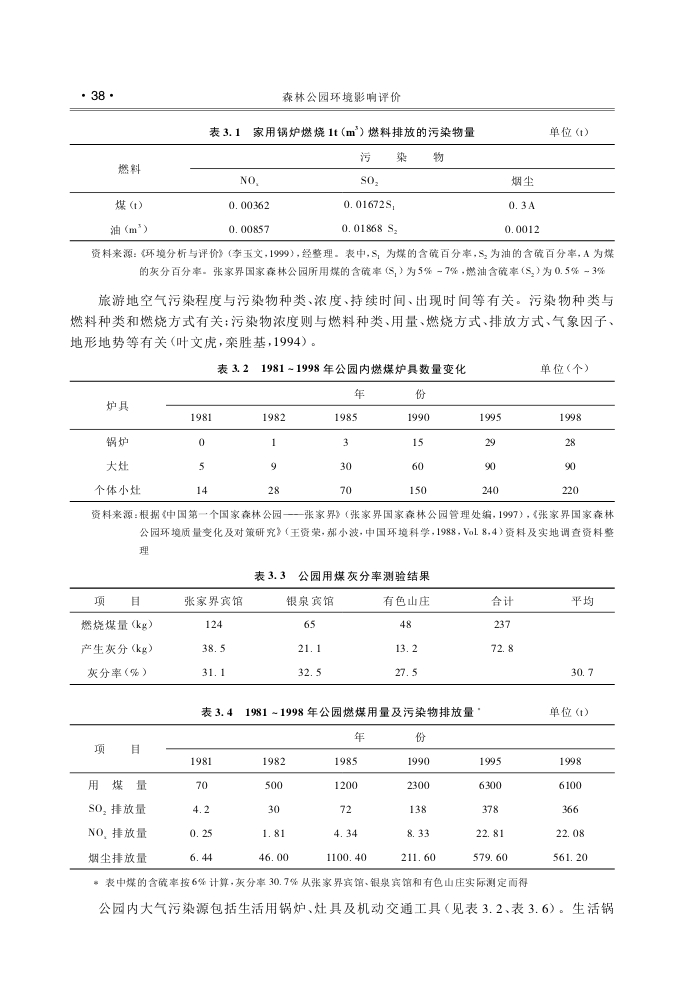table: (71, 724, 614, 870), (70, 379, 614, 502), (70, 587, 614, 685), (69, 144, 614, 241)
